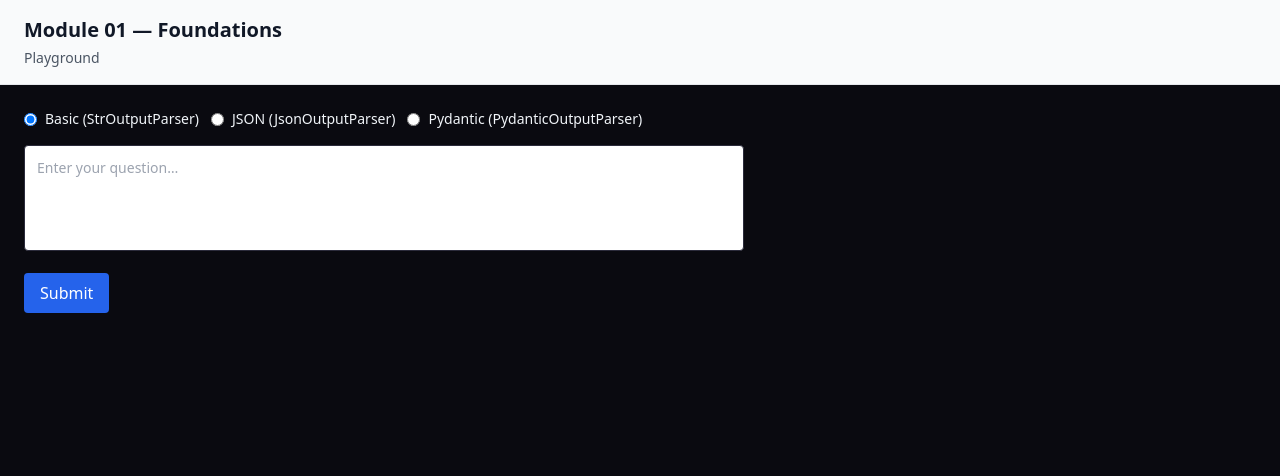
Scenario: Playground unit tests › renders json output as syntax-highlighted JSON block
This screenshot has width=1280, height=476.
Click the radio button with test id "chain-option-json" at (218, 119), box [211, 112, 224, 126]
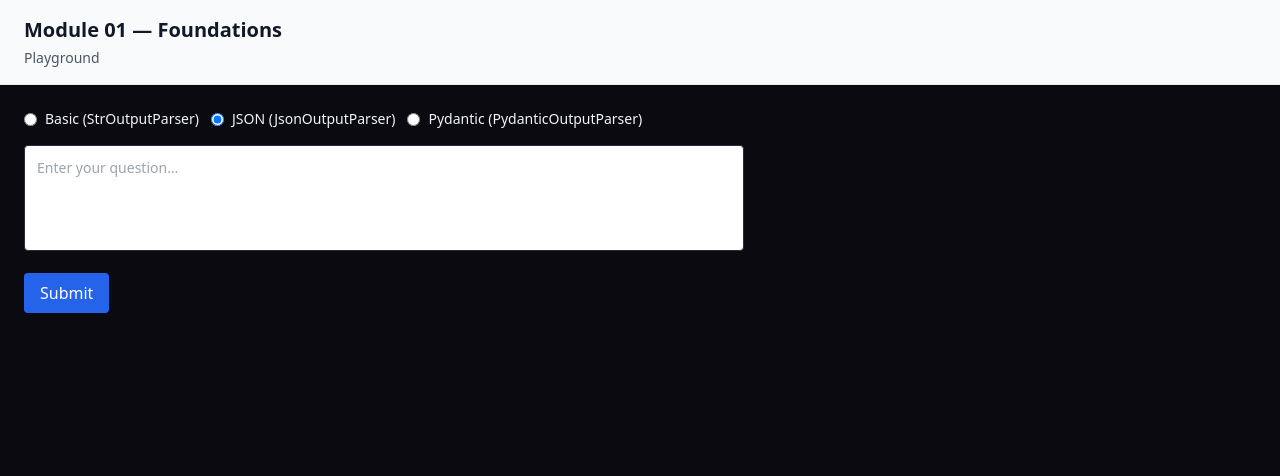
Type "test" into the text box with test id "query-input" at (384, 198), box [24, 145, 744, 251]
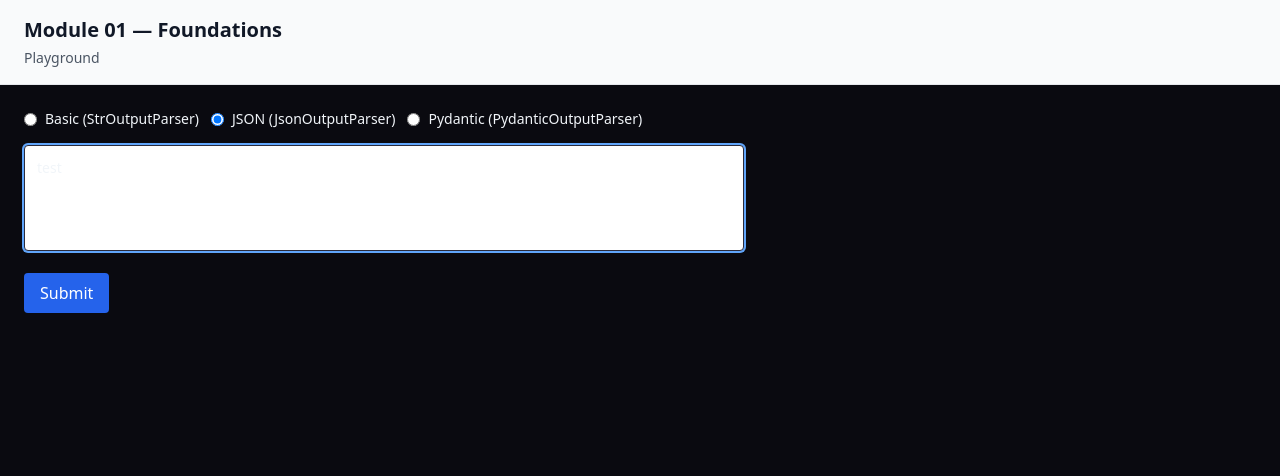
Click the button with test id "submit-btn" at (67, 293), box [24, 273, 109, 313]
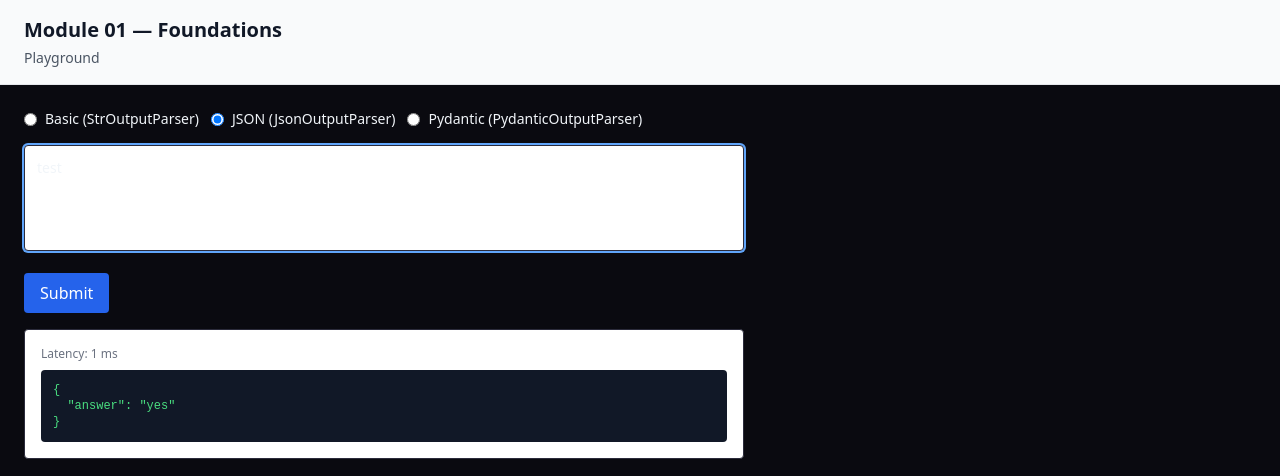
Now the text "{ \"answer\": \"yes\" }" is shown, box [41, 370, 727, 442]
Now the text with test id "json-output" shows "\"answer\"", box [53, 383, 175, 429]
